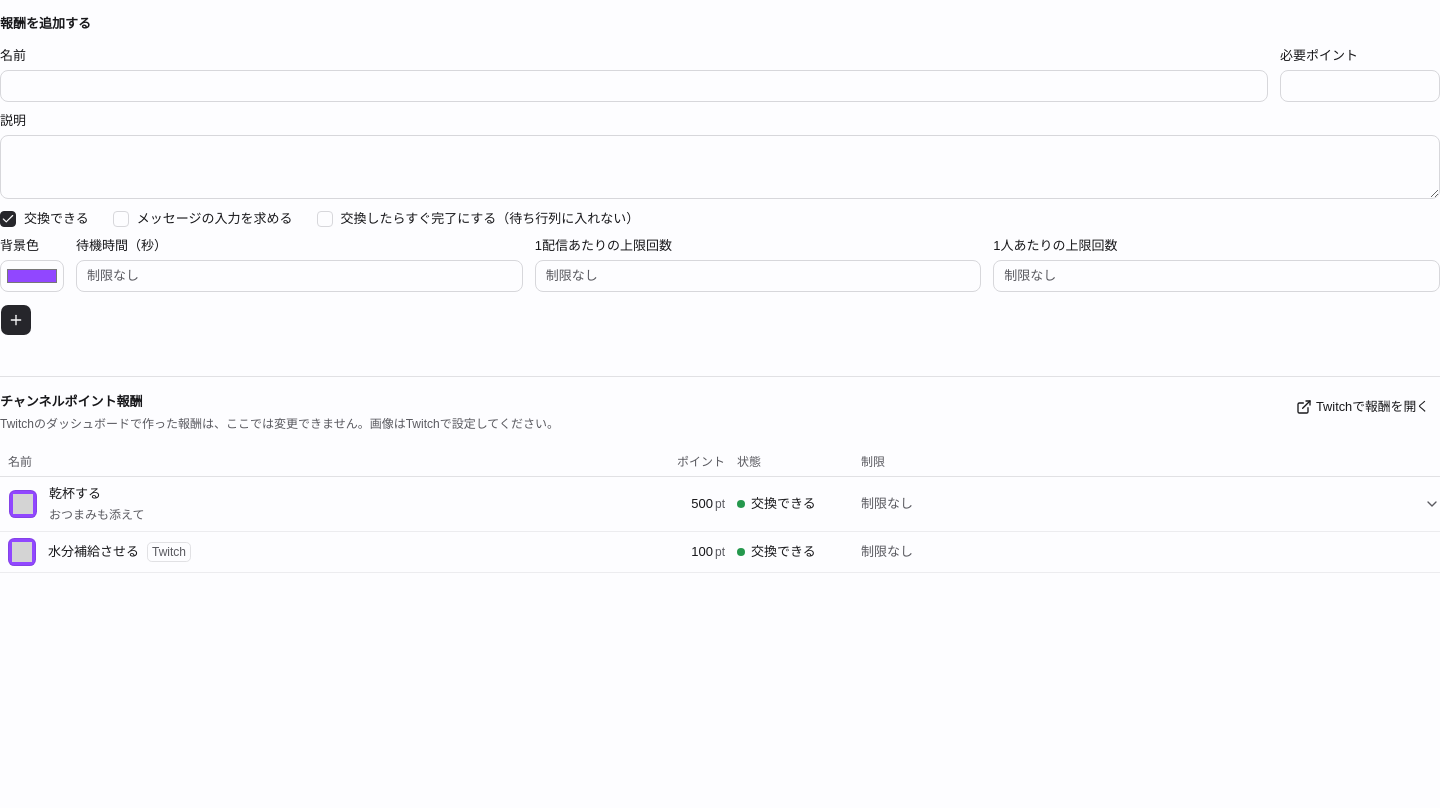
Test: 報酬の削除 › 確認してから削除し、一覧から外す
Click the button "乾杯する おつまみも添えて 500pt 交換できる 制限なし" at (708, 504), box [0, 477, 1416, 531]
(page scrolled)
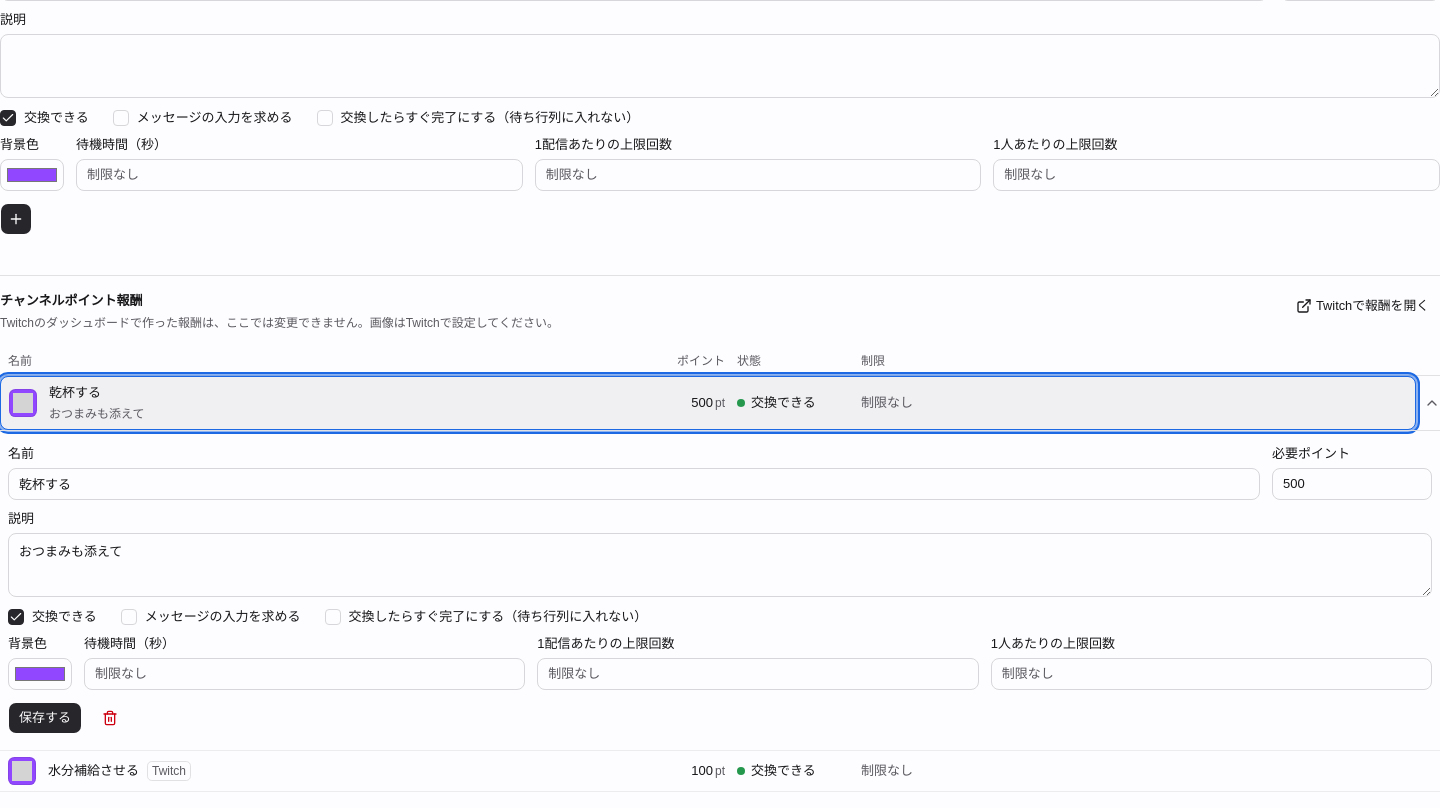
Click the button named "乾杯する を削除" at (110, 718), box [94, 702, 126, 734]
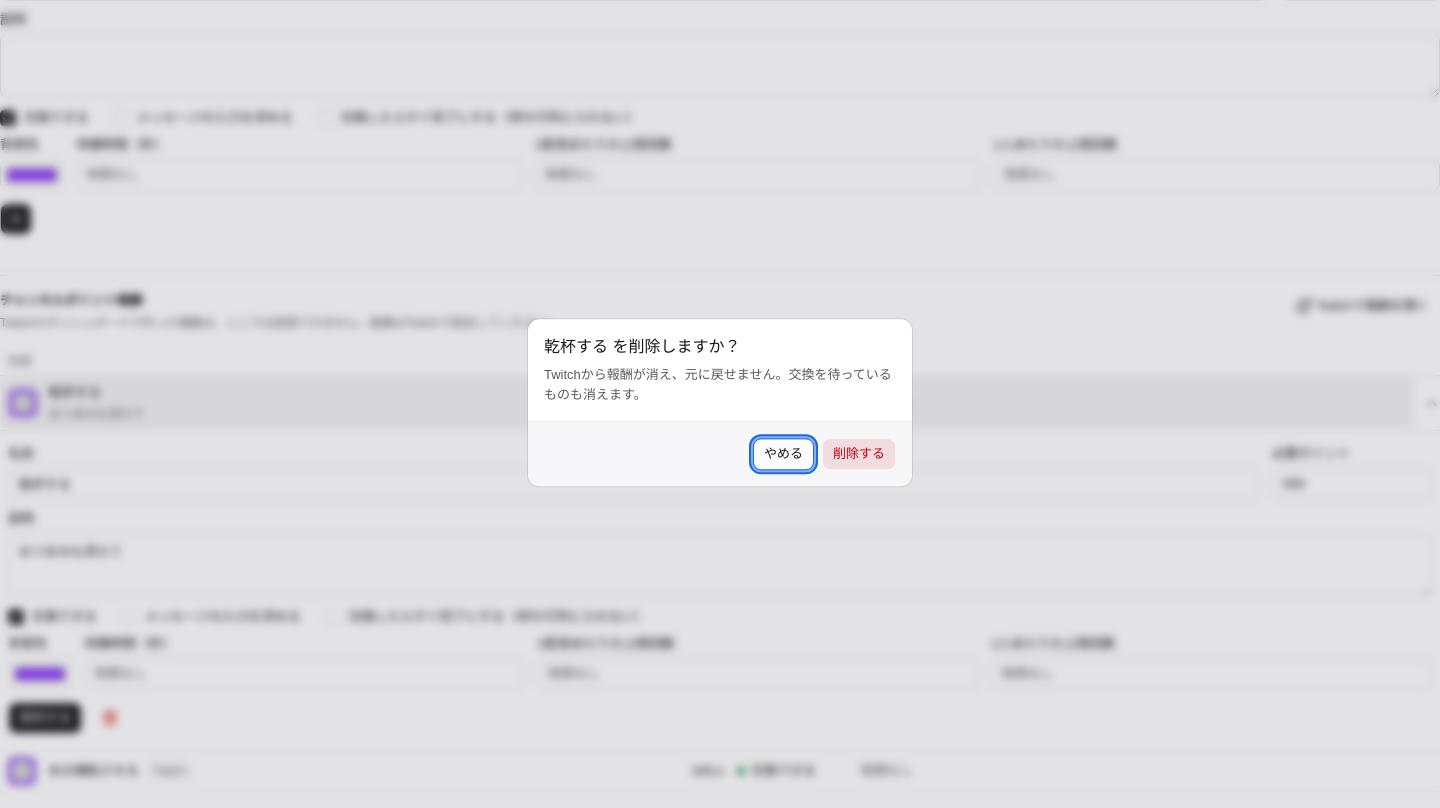
Click the button "削除する" at (859, 455), box [822, 439, 896, 471]
(page scrolled)
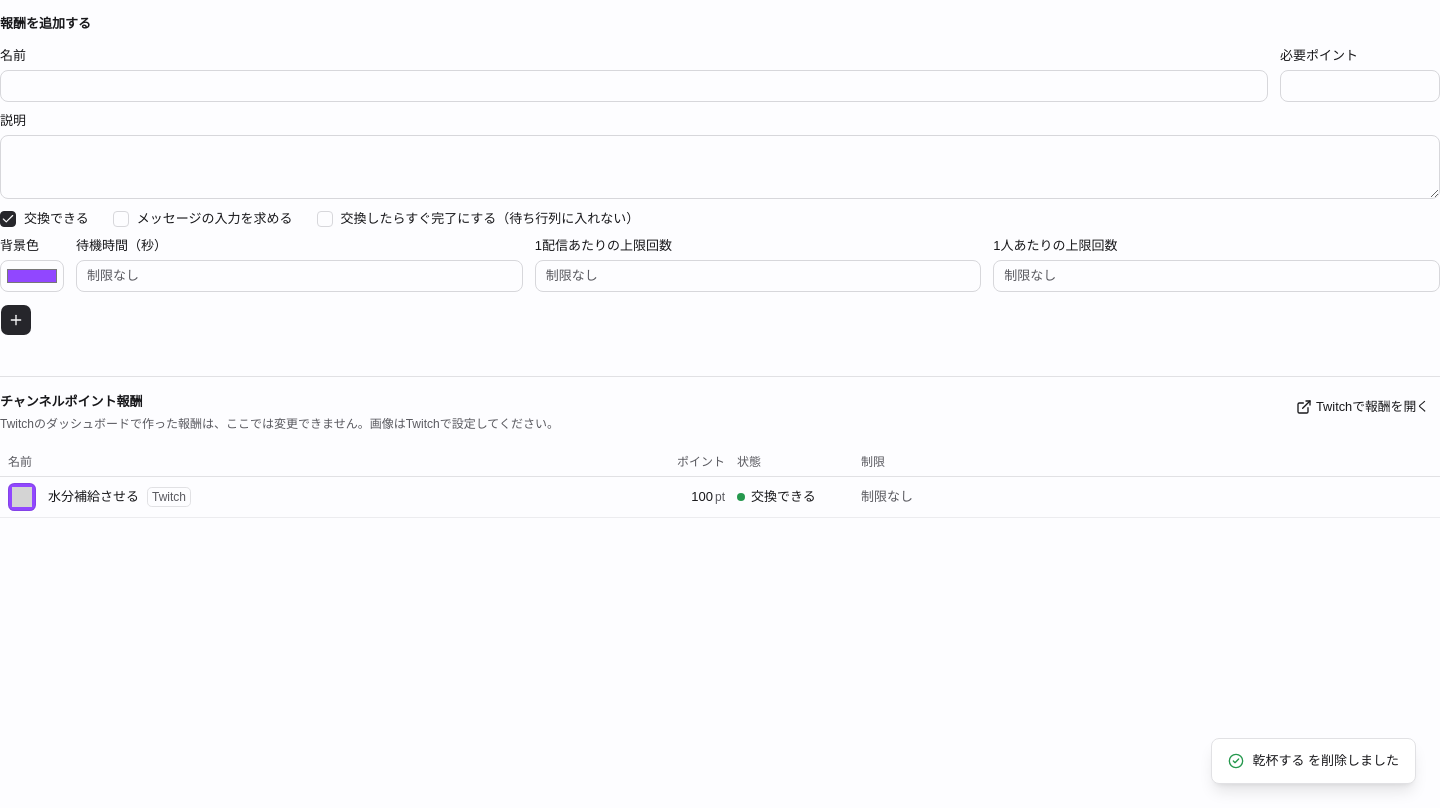
Now the text "乾杯する を削除しました" is shown, box [1211, 738, 1416, 784]
